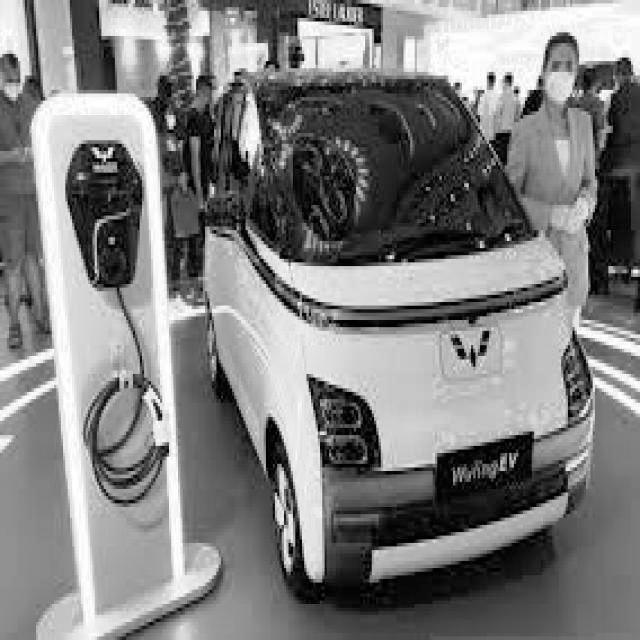Car: (210, 71, 595, 591)
